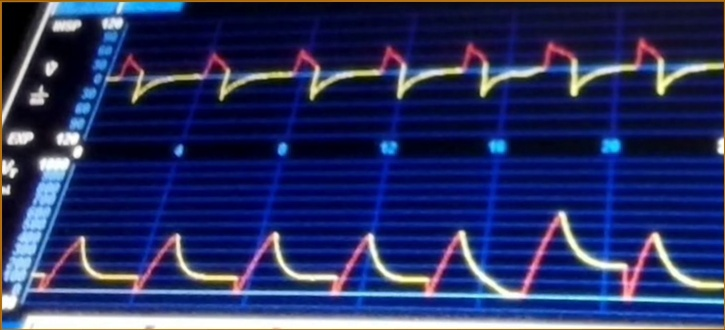Flow: (116, 28, 725, 136)
Leakage Volume: (50, 202, 725, 311)
